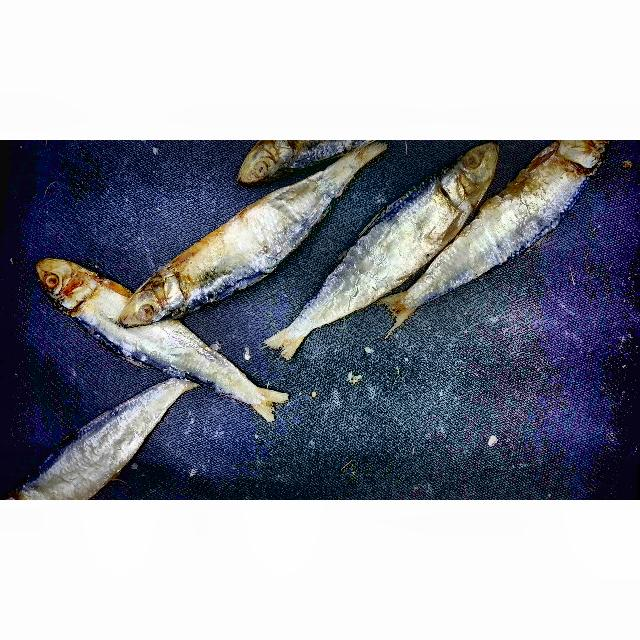Grade_C_Body: (430, 149, 595, 292), (181, 173, 343, 293), (300, 190, 457, 298), (46, 383, 175, 499), (106, 324, 237, 387)
Grade_C_Head: (113, 260, 197, 330), (34, 242, 108, 319), (426, 140, 507, 210), (231, 140, 301, 193), (531, 140, 621, 180)
Grade_C_Tail: (258, 314, 317, 365), (378, 285, 428, 337), (246, 381, 295, 426)
